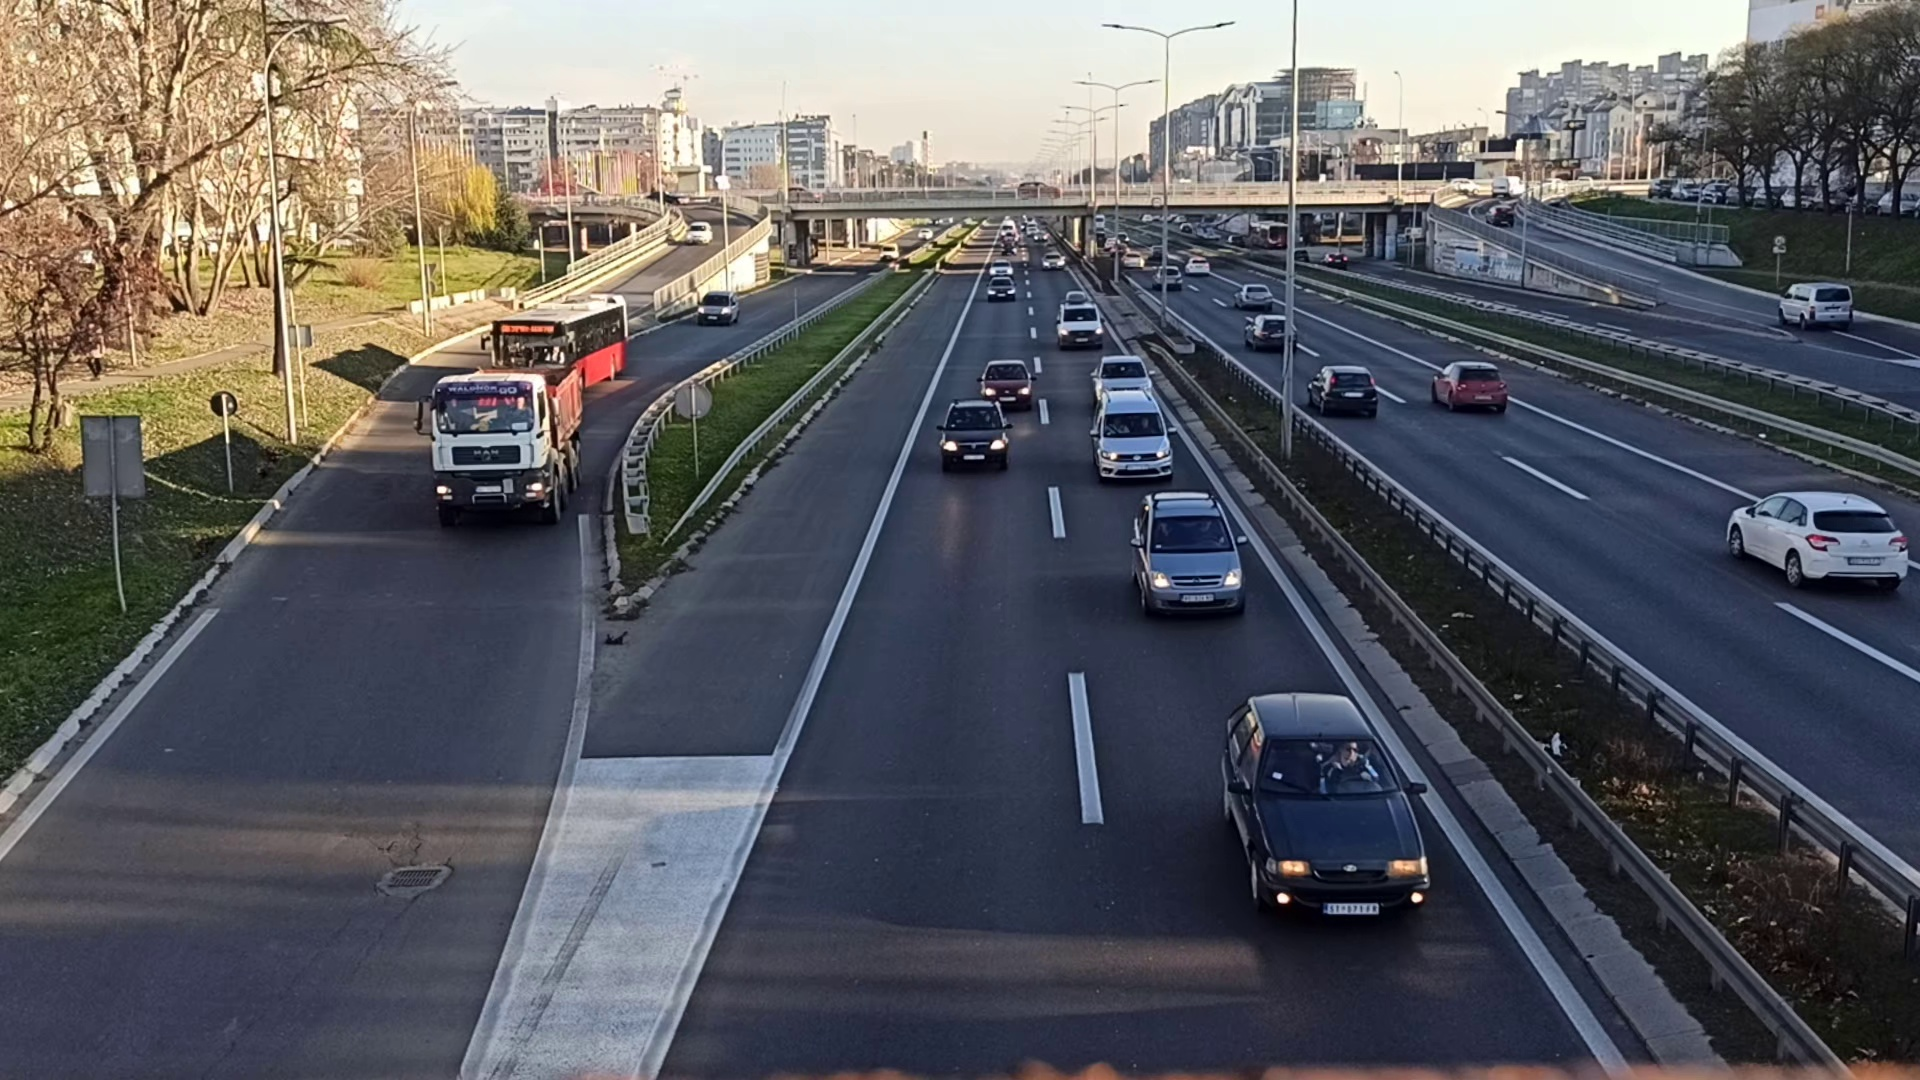bus: (485, 303, 628, 373)
car: (1211, 687, 1439, 939), (1716, 471, 1913, 607), (1121, 489, 1251, 618), (1085, 386, 1175, 481), (935, 396, 1013, 472), (1431, 360, 1510, 419), (1302, 365, 1379, 425), (1051, 291, 1105, 353), (977, 355, 1035, 410), (698, 290, 740, 327), (684, 218, 712, 245)
truck: (414, 367, 585, 529)
